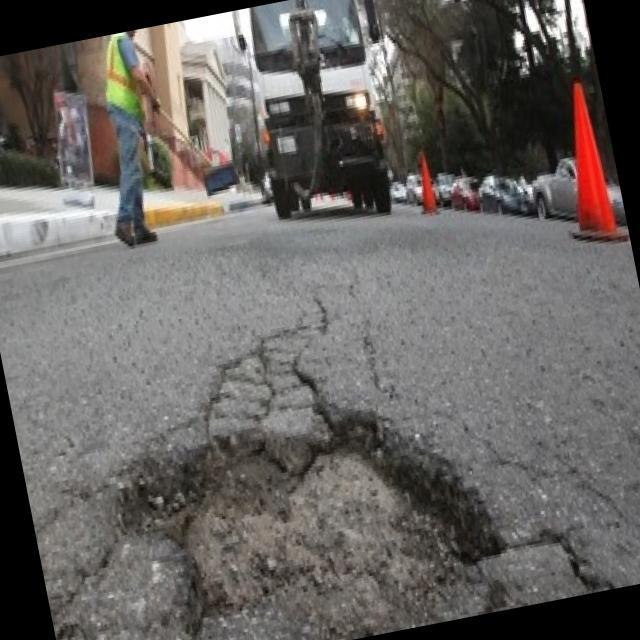Pothole: (92, 340, 527, 640)
